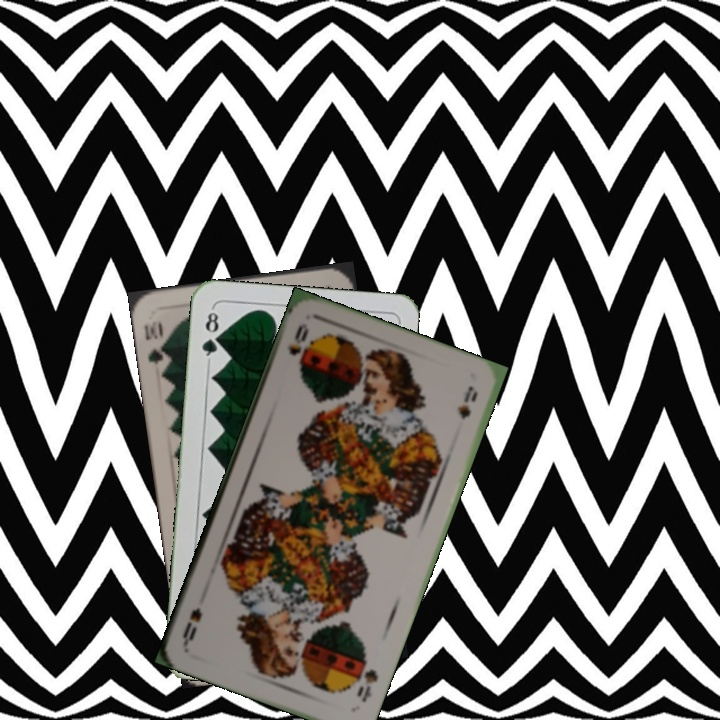G10: (140, 319, 172, 372)
G8: (197, 305, 222, 364)
SO: (282, 319, 312, 367), (352, 656, 381, 705)
